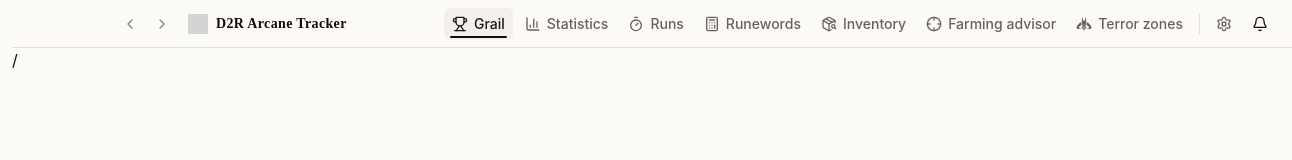
Test: When TitleBar is rendered › If a nav link is clicked, then it navigates and marks the new destination as current
Click the link "Terror zones".
click(1130, 23)  # box [1076, 14, 1183, 32]
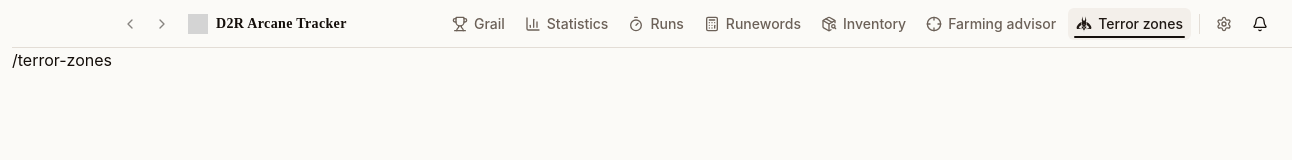
expect the text with test id "location" reads "/terror-zones": met, box [12, 50, 112, 70]
